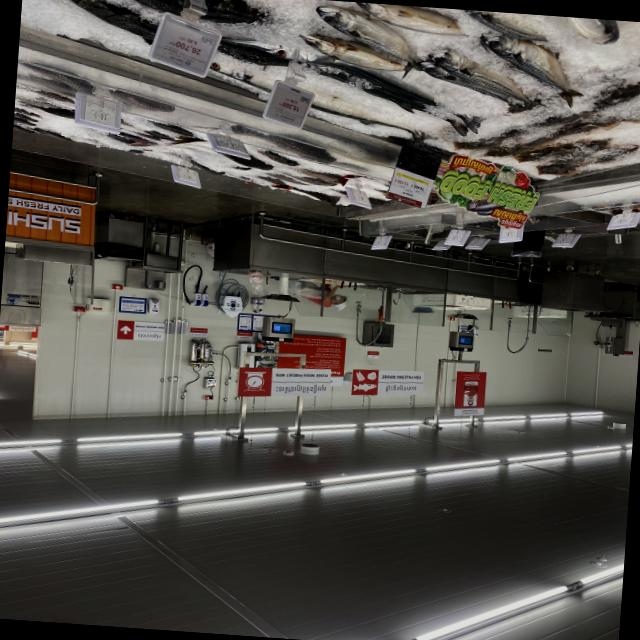Yolov11_80vkh: (446, 151, 499, 179), (266, 382, 329, 394), (489, 205, 529, 223), (376, 383, 419, 393), (495, 217, 525, 230), (135, 332, 164, 340)
